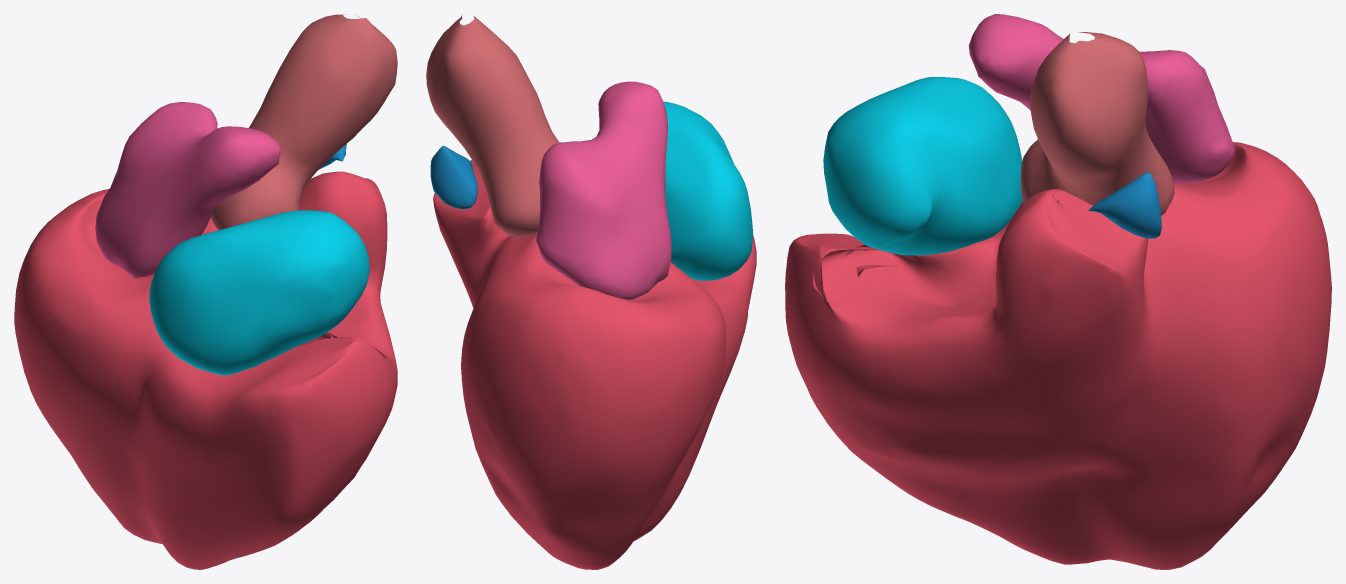
The model's file is frame_8.glb.
The picture shows the model from 3 angles, left to right: view 1: azimuth 30°, elevation 25°; view 2: azimuth 150°, elevation 25°; view 3: azimuth 270°, elevation 25°; orthographic projection. The views are drawn at different scales.
Parts seen in each view (by area): view 1: Renderer Node; view 2: Renderer Node; view 3: Renderer Node.
Boxes of the visible parts, x1=… form: Renderer Node: x1=14, y1=14, x2=397, y2=569; Renderer Node: x1=426, y1=14, x2=756, y2=569; Renderer Node: x1=785, y1=14, x2=1331, y2=569.
Size of the model in its own units: 107 by 161 by 128.
